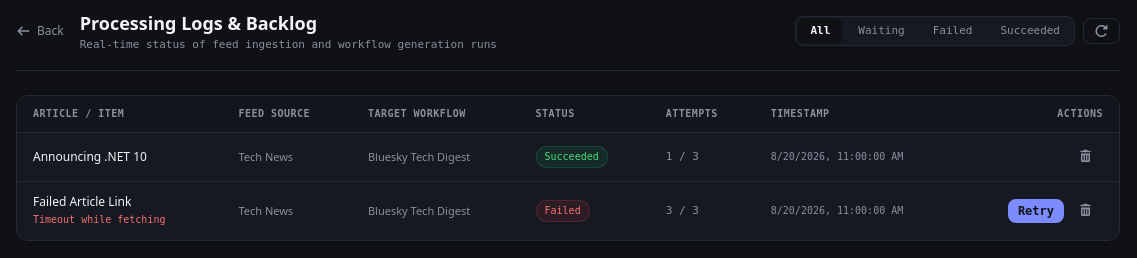
Test: LogsPanel › filters items by status tab
The width and height of the screenshot is (1137, 258).
Expected: the link "Announcing .NET 10" is shown, 33,148 -> 147,164
Click the button "Failed".
click(952, 31)  # box 921,19 -> 984,43
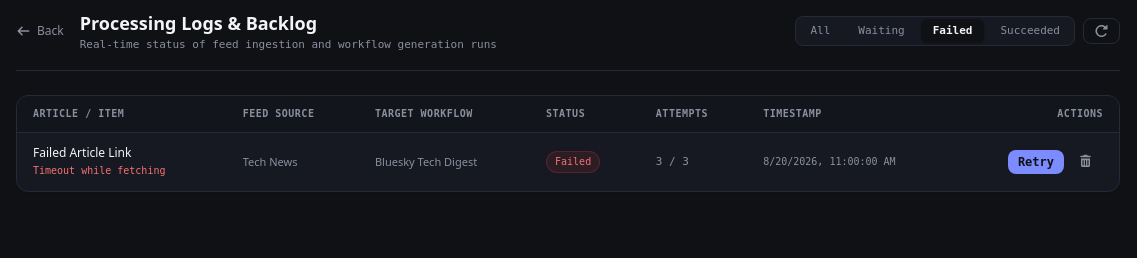
Expected: the link "Failed Article Link" is shown, 33,144 -> 131,160
Expected: the link "Announcing .NET 10" is gone
